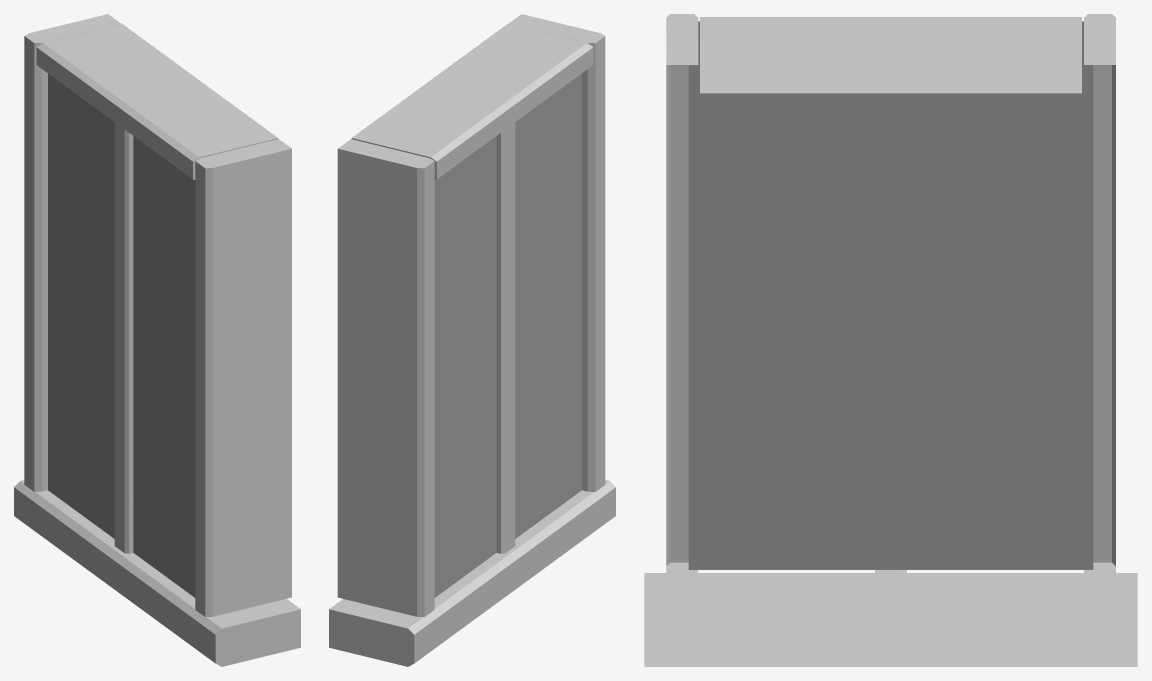
Rendered from Window_c.fbx.
3 renders of one model, left to right at view 1: azimuth 30°, elevation 25°; view 2: azimuth 150°, elevation 25°; view 3: azimuth 270°, elevation 25°, orthographic. The views are drawn at different scales.
Parts seen in each view (by area): view 1: polySurface19; view 2: polySurface19; view 3: polySurface19.
Part boxes in pixels (x1=…): polySurface19: x1=14, y1=14, x2=300, y2=666; polySurface19: x1=329, y1=14, x2=615, y2=666; polySurface19: x1=644, y1=14, x2=1137, y2=666.
Size of the model in its own units: 0.6551 by 3.62 by 2.69.
